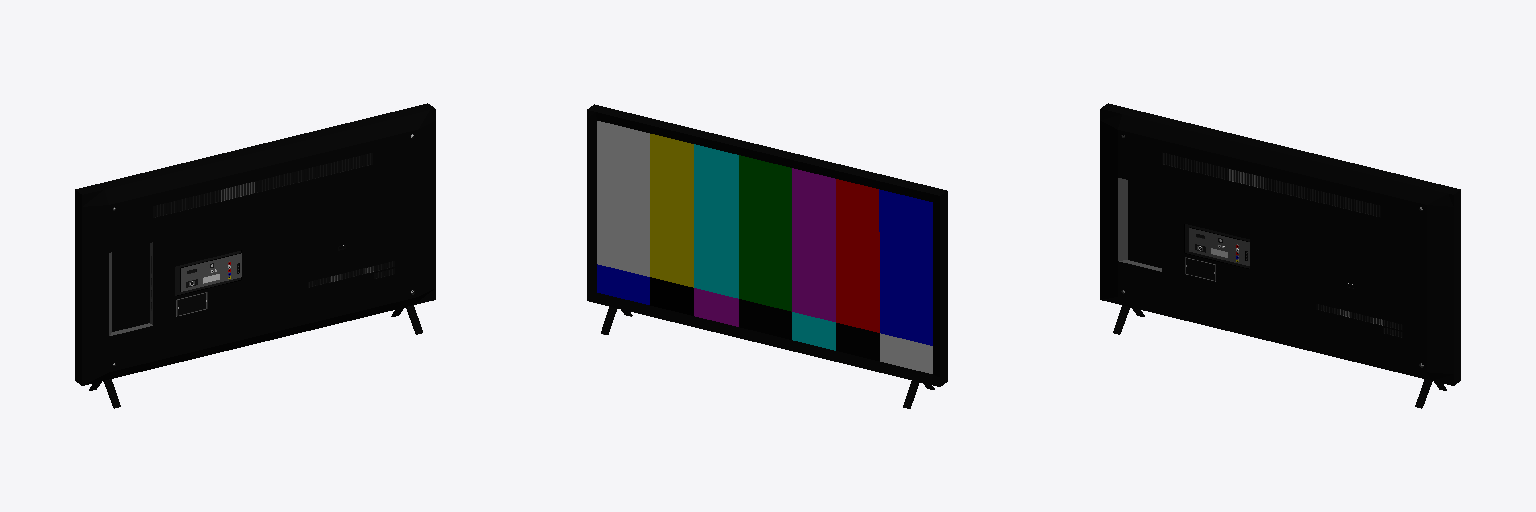
File: tv_sks.obj
The picture shows the model from 3 angles: view 1: azimuth 30°, elevation 25°; view 2: azimuth 150°, elevation 25°; view 3: azimuth 330°, elevation 25°; orthographic projection.
Visible parts, largest first — view 1: Cube_Cube.001; view 2: Cube_Cube.001; view 3: Cube_Cube.001.
Part boxes in pixels (x1,y1,x2,y2): Cube_Cube.001: (75,103,435,408); Cube_Cube.001: (587,104,947,408); Cube_Cube.001: (1100,103,1460,408).
Size of the model in its own units: 8.91 by 5.12 by 1.12.